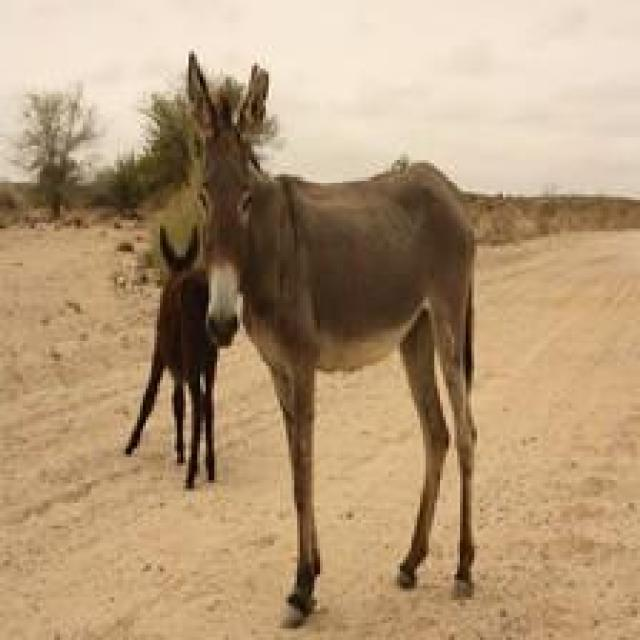Donkey: (183, 49, 477, 628), (123, 223, 217, 488)
